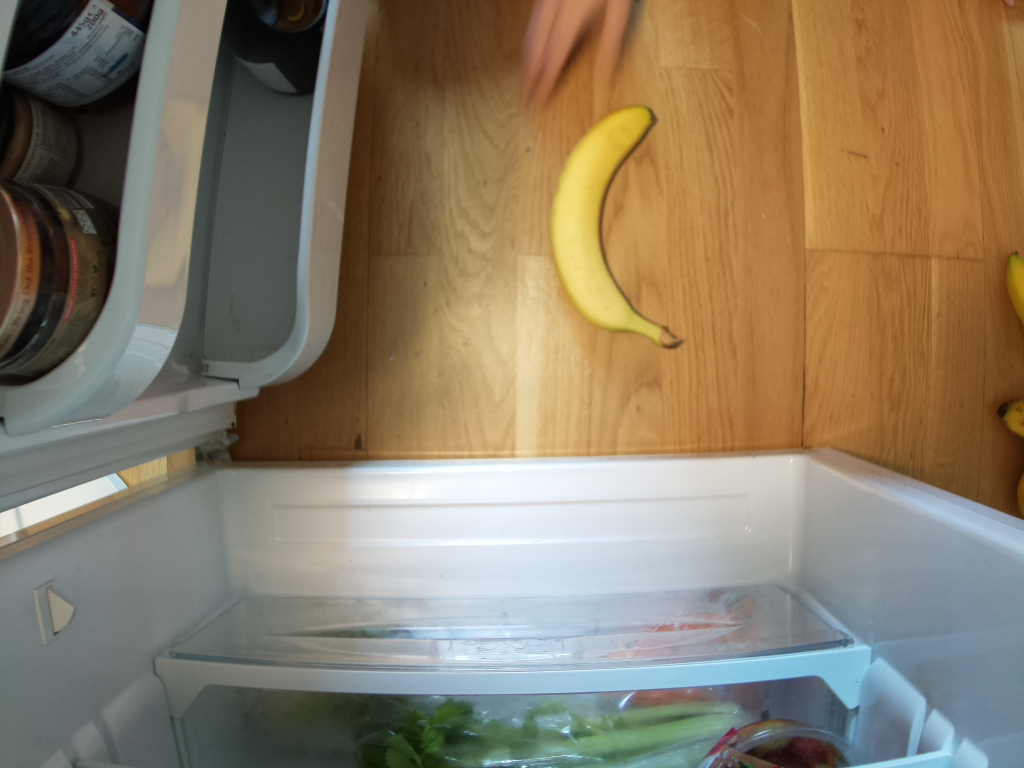banana: (549, 105, 689, 354)
